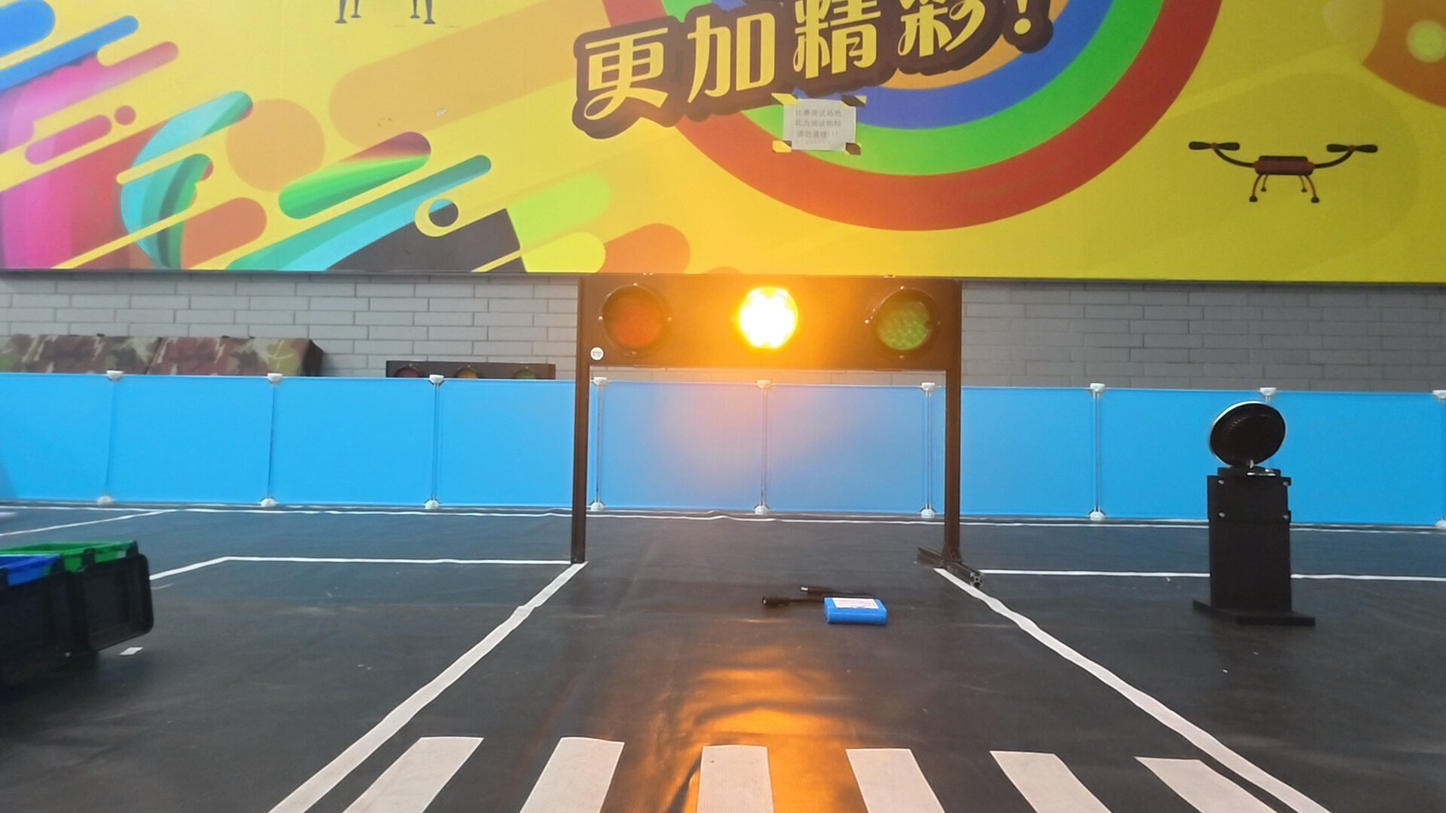stop: (731, 282, 803, 354)
